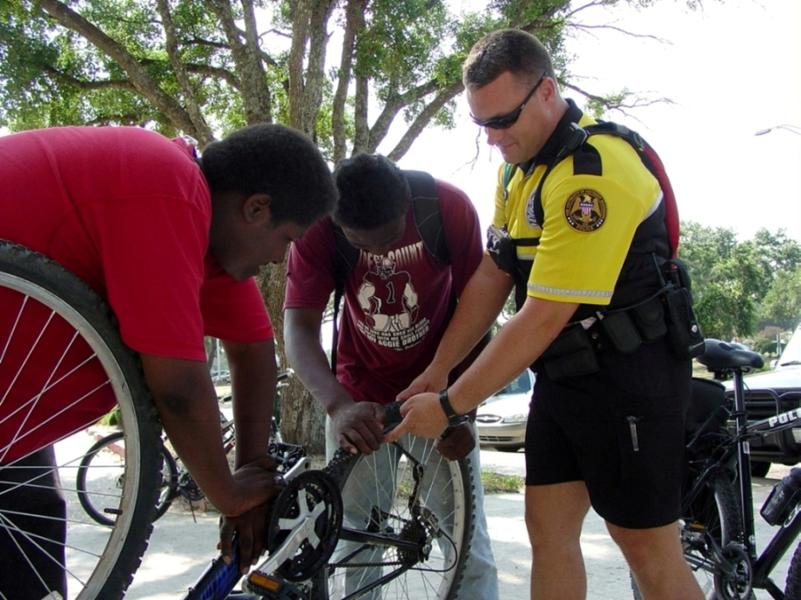person: (381, 28, 711, 600)
